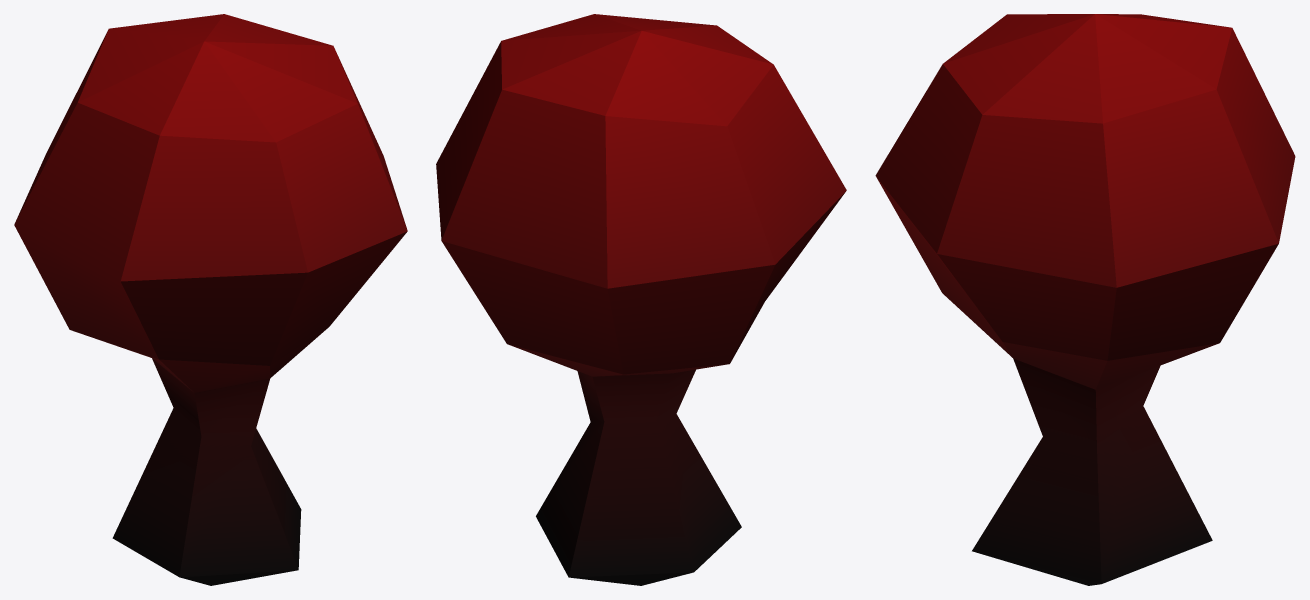
File: SM_Env_Plant_Balloon_04.fbx
3 views of the same model, side by side, from view 1: azimuth 30°, elevation 25°; view 2: azimuth 150°, elevation 25°; view 3: azimuth 270°, elevation 25° (orthographic). The views are drawn at different scales.
Parts seen in each view (by area): view 1: SM_Env_Plant_Balloon_04; view 2: SM_Env_Plant_Balloon_04; view 3: SM_Env_Plant_Balloon_04.
Boxes of the visible parts, x1=… form: SM_Env_Plant_Balloon_04: x1=14, y1=14, x2=407, y2=585; SM_Env_Plant_Balloon_04: x1=436, y1=14, x2=846, y2=585; SM_Env_Plant_Balloon_04: x1=875, y1=14, x2=1295, y2=585.
Bounding box in the file's own units: 30.84 × 45.76 × 30.55.
